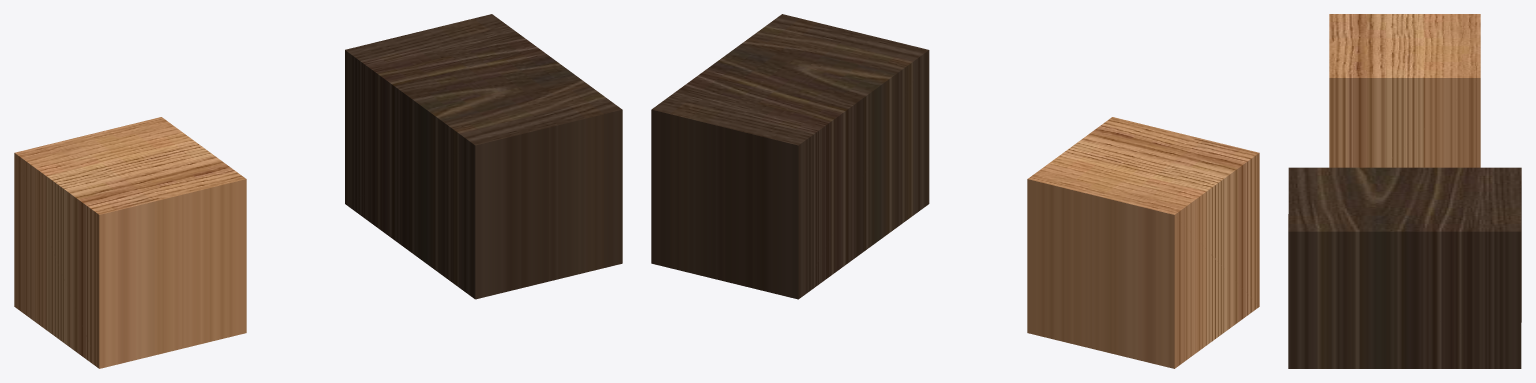
Rendered from twocubes.gltf.
3 renders of one model, left to right at view 1: azimuth 30°, elevation 25°; view 2: azimuth 150°, elevation 25°; view 3: azimuth 270°, elevation 25°, orthographic. The views are drawn at different scales.
Bounding box in the file's own units: 0.136 × 0.04 × 0.0615.
2 materials, 2 textured.
